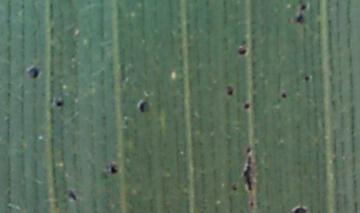tarspot: (242, 155, 253, 192), (26, 66, 39, 79), (138, 99, 148, 112), (225, 84, 235, 97), (291, 206, 307, 213), (295, 13, 305, 24), (67, 190, 77, 201), (236, 47, 248, 56), (55, 99, 66, 108), (110, 164, 117, 175), (242, 102, 251, 110), (248, 199, 255, 208), (303, 74, 311, 81), (245, 146, 252, 154), (299, 5, 308, 11), (231, 185, 238, 192), (281, 92, 287, 99)
